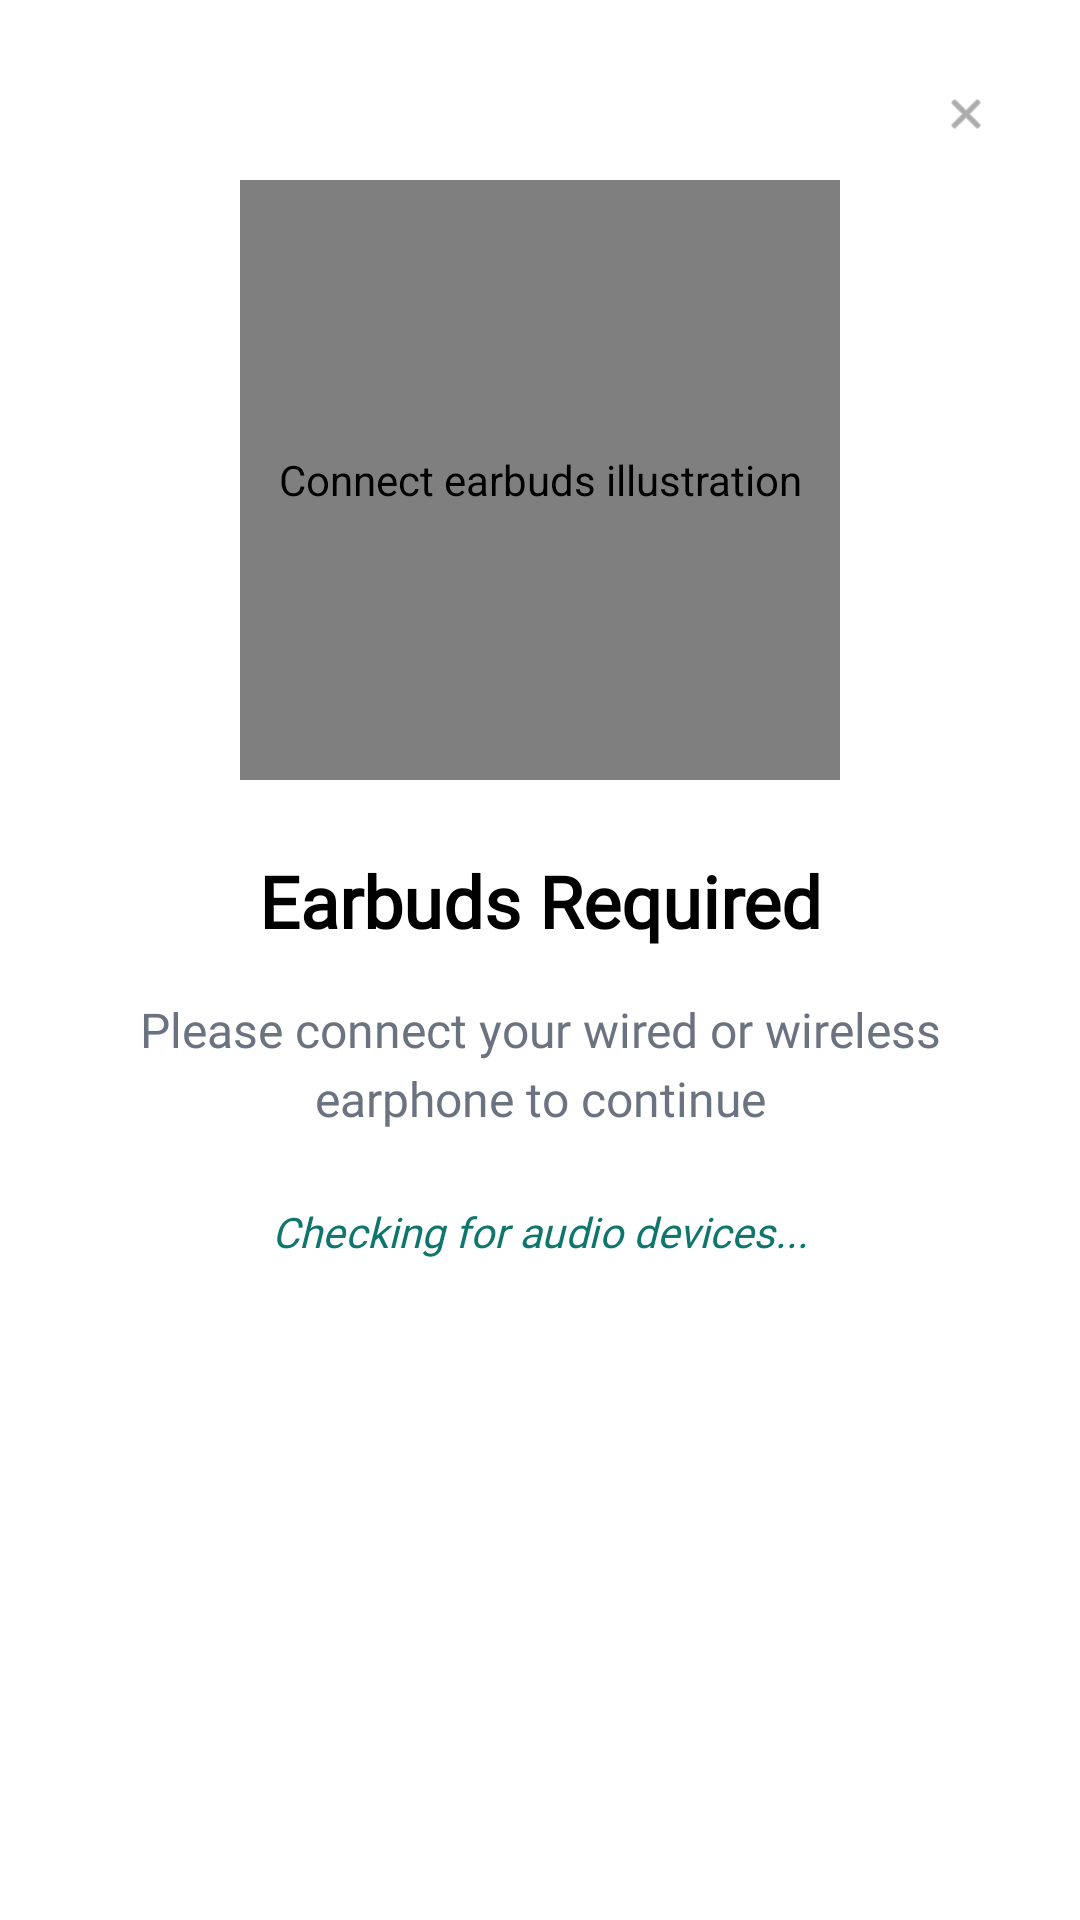

Where to tap for icons on this 1080*1920 app screen, as (x,y):
Close: (966,114)
